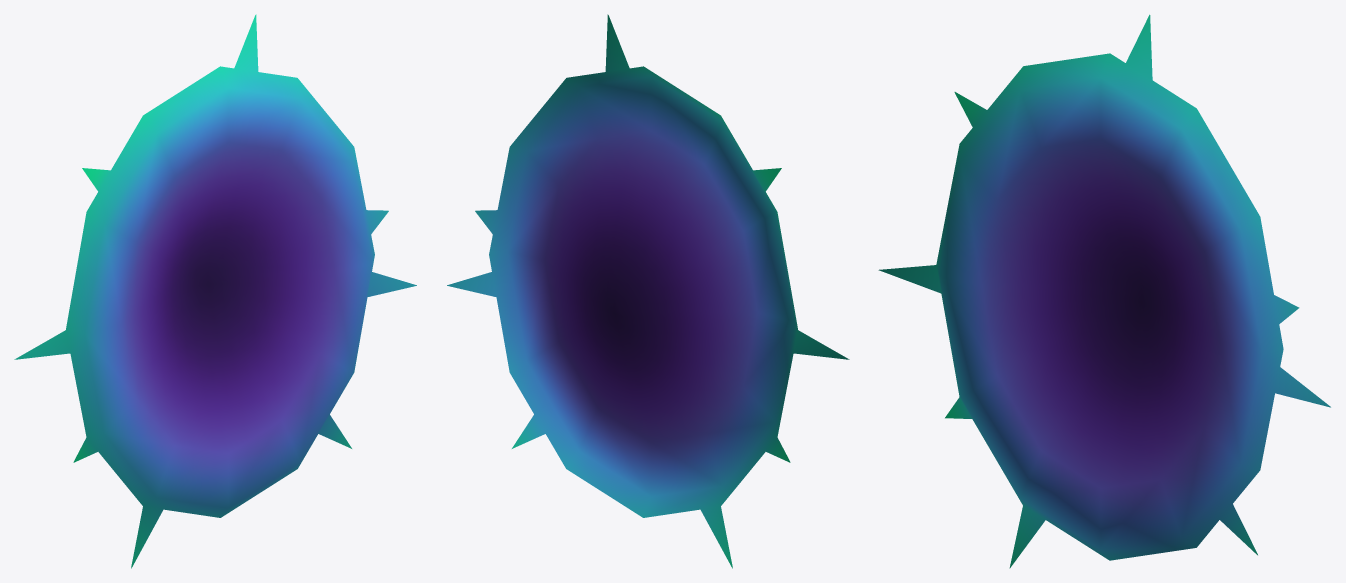
The model's file is x_parkour_teleport_enter.fbx.
The picture shows the model from 3 angles, left to right: view 1: azimuth 30°, elevation 25°; view 2: azimuth 150°, elevation 25°; view 3: azimuth 330°, elevation 25°; orthographic projection. The views are drawn at different scales.
Visible parts, largest first — view 1: x_parkour_teleport_enter; view 2: x_parkour_teleport_enter; view 3: x_parkour_teleport_enter.
Part boxes in pixels (box(x1,y1,x2,y2)): x_parkour_teleport_enter: box(14, 14, 416, 568); x_parkour_teleport_enter: box(447, 14, 849, 568); x_parkour_teleport_enter: box(878, 14, 1330, 568).
Bounding box in the file's own units: 2.92 × 3.63 × 0.3941.
